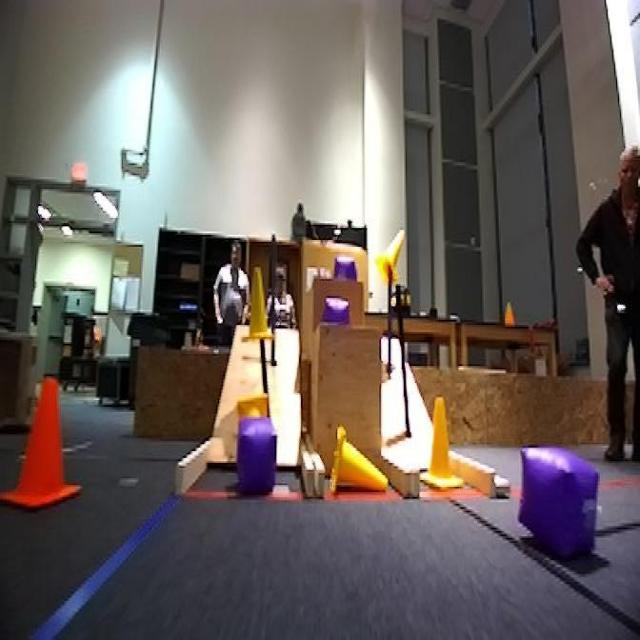frc_cone: (424, 396, 466, 501), (331, 429, 382, 490), (246, 284, 273, 347), (376, 233, 403, 286), (234, 403, 270, 428)
frc_cube: (526, 448, 599, 558), (235, 422, 279, 494), (325, 302, 350, 328), (335, 254, 355, 279)
